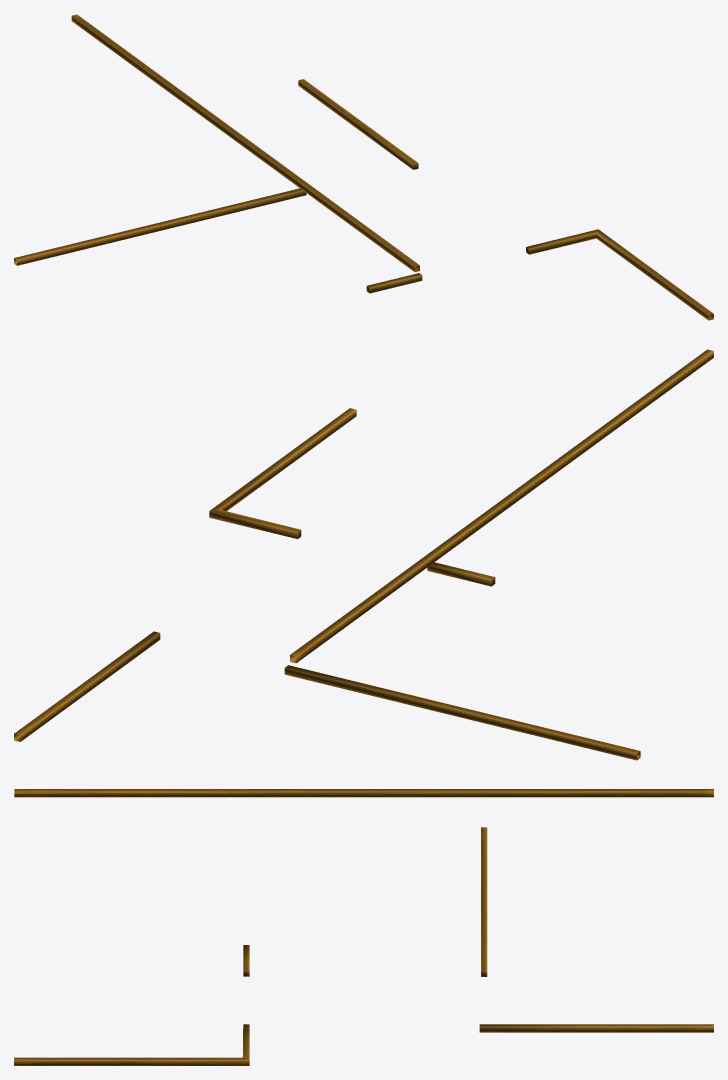
File: HTOWN01_MILLRAILINGS.fbx
3 renders of one model, top to bottom at view 1: azimuth 30°, elevation 25°; view 2: azimuth 150°, elevation 25°; view 3: azimuth 270°, elevation 25°, orthographic. The views are drawn at different scales.
Visible parts, largest first — view 1: HTOWN01_MILLRAILINGS; view 2: HTOWN01_MILLRAILINGS; view 3: HTOWN01_MILLRAILINGS.
Boxes of the visible parts, x1,y1,x2,y2 form: HTOWN01_MILLRAILINGS: (14, 14, 713, 320); HTOWN01_MILLRAILINGS: (14, 349, 713, 760); HTOWN01_MILLRAILINGS: (14, 789, 713, 1065).
Size of the model in its own units: 99077 by 25389 by 125856.
1 material, 1 textured.
